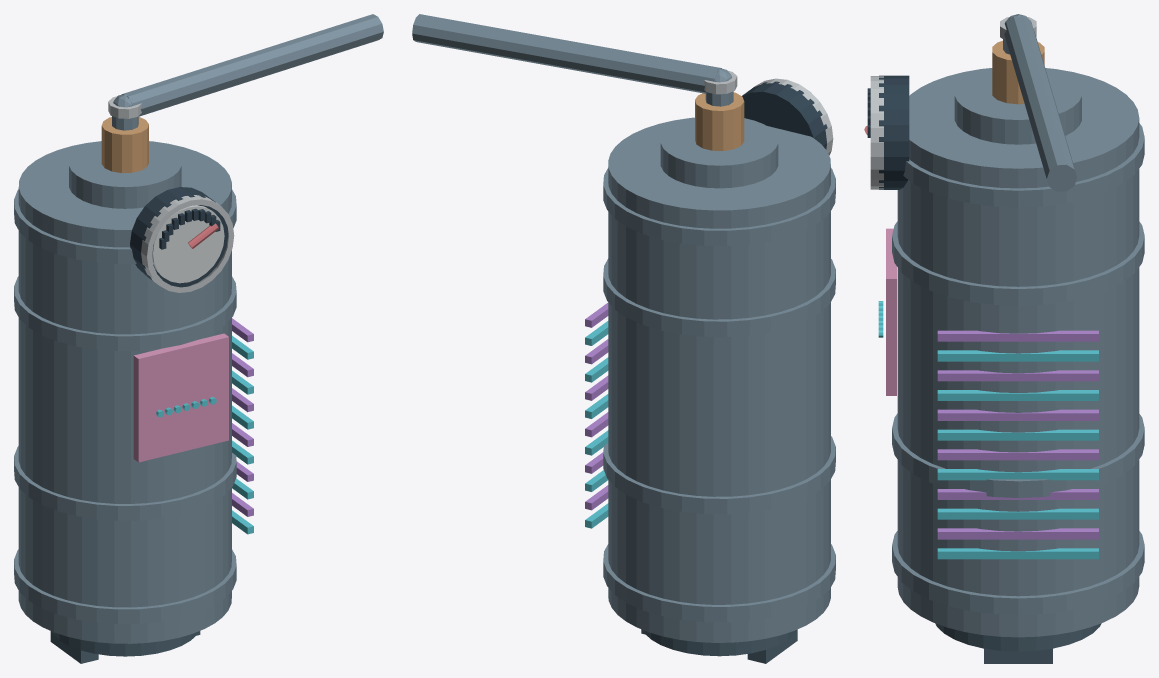
File: 05_L74_VirtualPhotoresistSupplyCartridge.glb
The picture shows the model from 3 angles, left to right: view 1: azimuth 30°, elevation 25°; view 2: azimuth 150°, elevation 25°; view 3: azimuth 270°, elevation 25°; orthographic projection. The views are drawn at different scales.
Parts seen in each view (by area): view 1: VirtualPhotoresistSupplyCartridge_Node_0000, VirtualPhotoresistSupplyCartridge_Node_0010, VirtualPhotoresistSupplyCartridge_Node_0051, VirtualPhotoresistSupplyCartridge_Node_0011, VirtualPhotoresistSupplyCartridge_Node_0002, VirtualPhotoresistSupplyCartridge_Node_0006, VirtualPhotoresistSupplyCartridge_Node_0004, VirtualPhotoresistSupplyCartridge_Node_0037, VirtualPhotoresistSupplyCartridge_Node_0008, VirtualPhotoresistSupplyCartridge_Node_0036, VirtualPhotoresistSupplyCartridge_Node_0013, VirtualPhotoresistSupplyCartridge_Node_0035 (+1 smaller); view 2: VirtualPhotoresistSupplyCartridge_Node_0000, VirtualPhotoresistSupplyCartridge_Node_0051, VirtualPhotoresistSupplyCartridge_Node_0011, VirtualPhotoresistSupplyCartridge_Node_0002, VirtualPhotoresistSupplyCartridge_Node_0008, VirtualPhotoresistSupplyCartridge_Node_0006, VirtualPhotoresistSupplyCartridge_Node_0004, VirtualPhotoresistSupplyCartridge_Node_0035, VirtualPhotoresistSupplyCartridge_Node_0013, VirtualPhotoresistSupplyCartridge_Node_0012, VirtualPhotoresistSupplyCartridge_Node_0036; view 3: VirtualPhotoresistSupplyCartridge_Node_0000, VirtualPhotoresistSupplyCartridge_Node_0011, VirtualPhotoresistSupplyCartridge_Node_0006, VirtualPhotoresistSupplyCartridge_Node_0002, VirtualPhotoresistSupplyCartridge_Node_0051, VirtualPhotoresistSupplyCartridge_Node_0008, VirtualPhotoresistSupplyCartridge_Node_0004, VirtualPhotoresistSupplyCartridge_Node_0035, VirtualPhotoresistSupplyCartridge_Node_0012, VirtualPhotoresistSupplyCartridge_Node_0032, VirtualPhotoresistSupplyCartridge_Node_0023, VirtualPhotoresistSupplyCartridge_Node_0028 (+13 smaller).
Boxes of the visible parts, x1,y1,x2,y2 form: VirtualPhotoresistSupplyCartridge_Node_0000: [18, 141, 231, 643]; VirtualPhotoresistSupplyCartridge_Node_0010: [133, 333, 228, 462]; VirtualPhotoresistSupplyCartridge_Node_0051: [122, 14, 383, 116]; VirtualPhotoresistSupplyCartridge_Node_0011: [69, 141, 181, 208]; VirtualPhotoresistSupplyCartridge_Node_0002: [14, 549, 236, 624]; VirtualPhotoresistSupplyCartridge_Node_0006: [14, 276, 236, 350]; VirtualPhotoresistSupplyCartridge_Node_0004: [14, 446, 236, 520]; VirtualPhotoresistSupplyCartridge_Node_0037: [152, 205, 224, 283]; VirtualPhotoresistSupplyCartridge_Node_0008: [14, 189, 236, 264]; VirtualPhotoresistSupplyCartridge_Node_0036: [141, 195, 234, 292]; VirtualPhotoresistSupplyCartridge_Node_0013: [101, 117, 148, 173]; VirtualPhotoresistSupplyCartridge_Node_0035: [130, 187, 228, 287]; VirtualPhotoresistSupplyCartridge_Node_0000: [608, 117, 830, 642]; VirtualPhotoresistSupplyCartridge_Node_0051: [412, 14, 721, 93]; VirtualPhotoresistSupplyCartridge_Node_0011: [660, 118, 778, 188]; VirtualPhotoresistSupplyCartridge_Node_0002: [603, 544, 835, 622]; VirtualPhotoresistSupplyCartridge_Node_0008: [603, 168, 835, 246]; VirtualPhotoresistSupplyCartridge_Node_0006: [603, 258, 835, 336]; VirtualPhotoresistSupplyCartridge_Node_0004: [603, 436, 835, 514]; VirtualPhotoresistSupplyCartridge_Node_0035: [742, 81, 827, 149]; VirtualPhotoresistSupplyCartridge_Node_0013: [695, 92, 744, 150]; VirtualPhotoresistSupplyCartridge_Node_0012: [643, 630, 796, 656]; VirtualPhotoresistSupplyCartridge_Node_0036: [755, 78, 833, 155]; VirtualPhotoresistSupplyCartridge_Node_0000: [897, 68, 1139, 637]; VirtualPhotoresistSupplyCartridge_Node_0011: [954, 68, 1081, 144]; VirtualPhotoresistSupplyCartridge_Node_0006: [892, 221, 1144, 305]; VirtualPhotoresistSupplyCartridge_Node_0002: [892, 531, 1144, 615]; VirtualPhotoresistSupplyCartridge_Node_0051: [1004, 15, 1077, 191]; VirtualPhotoresistSupplyCartridge_Node_0008: [903, 123, 1144, 207]; VirtualPhotoresistSupplyCartridge_Node_0004: [892, 413, 1144, 497]; VirtualPhotoresistSupplyCartridge_Node_0035: [879, 75, 909, 189]; VirtualPhotoresistSupplyCartridge_Node_0012: [935, 623, 1101, 651]; VirtualPhotoresistSupplyCartridge_Node_0032: [937, 370, 1098, 381]; VirtualPhotoresistSupplyCartridge_Node_0023: [937, 548, 1098, 559]; VirtualPhotoresistSupplyCartridge_Node_0028: [937, 449, 1098, 460].
Size of the model in its own units: 1.43 by 2.02 by 0.8352.
